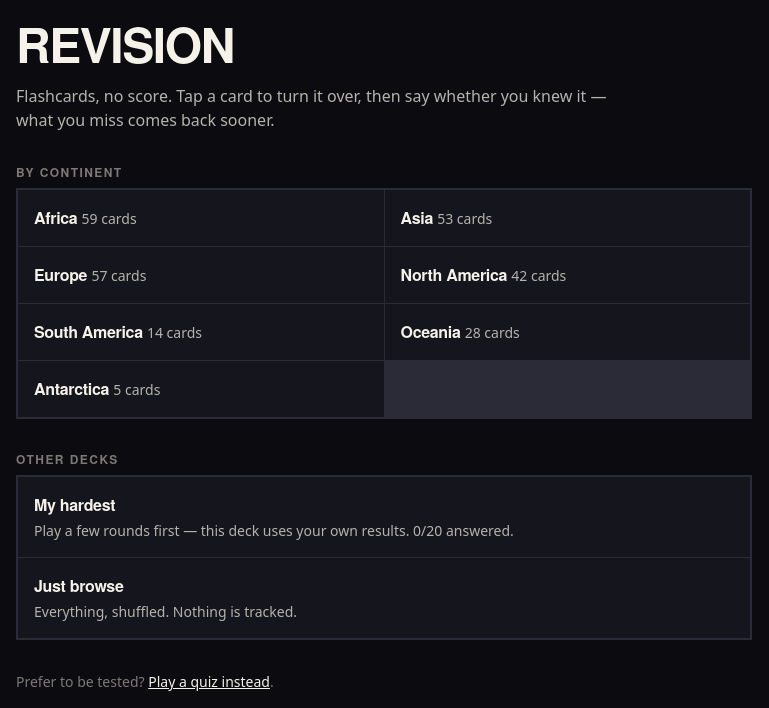
Test: deck picker (§6.4) › hides a continent with nothing in it under the chosen country set
The width and height of the screenshot is (769, 708).
Click the button "Antarctica 5 cards".
click(72, 388)  # box x1=18 y1=361 x2=384 y2=417
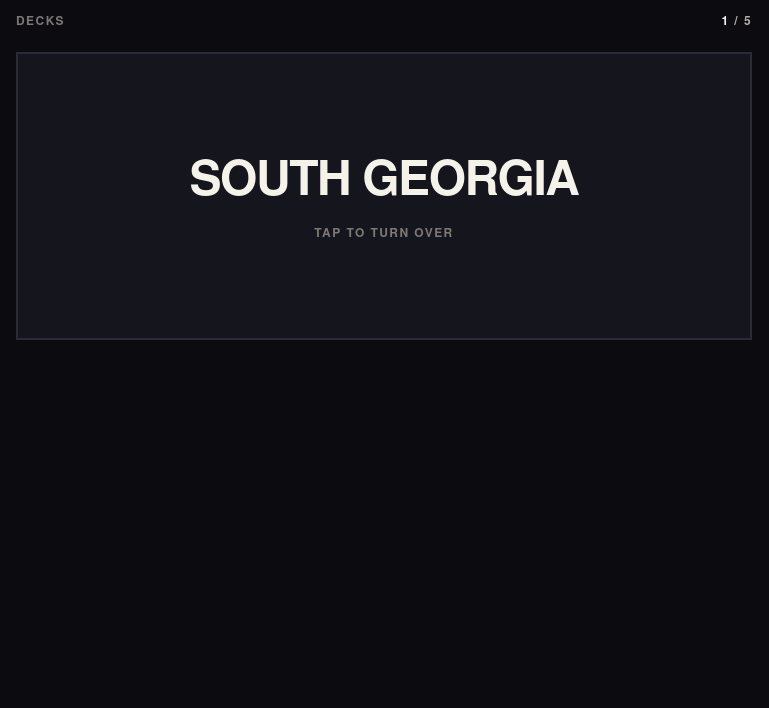
Expected: the button "South Georgia Tap to turn over" is shown, x1=16 y1=52 x2=752 y2=340
